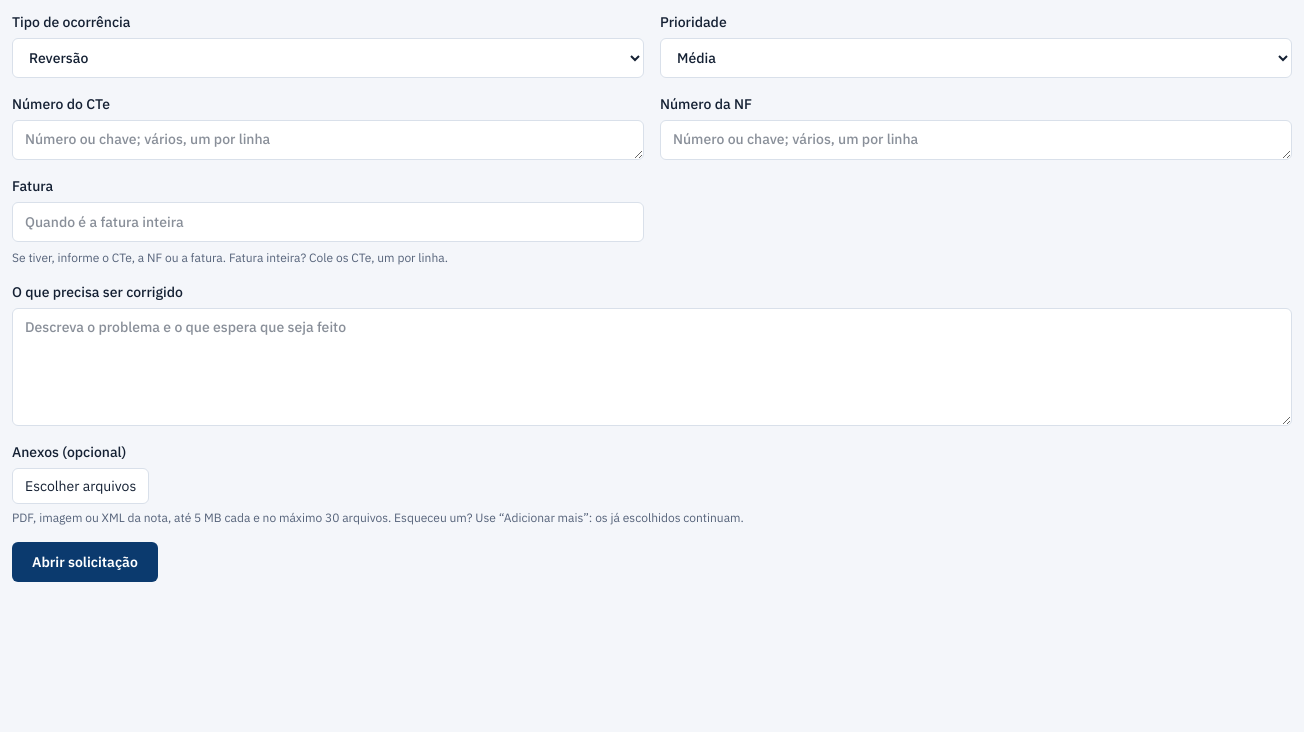
it: FormularioDeAbertura › troca de pagador pede o pagador correto
The width and height of the screenshot is (1304, 732).
Expected: the field labelled "Pagador correto" is not shown
Select "Troca de pagador" in the dropdown labelled "Tipo de ocorrência". click: {"x": 328, "y": 58}
box: [12,38,644,78]
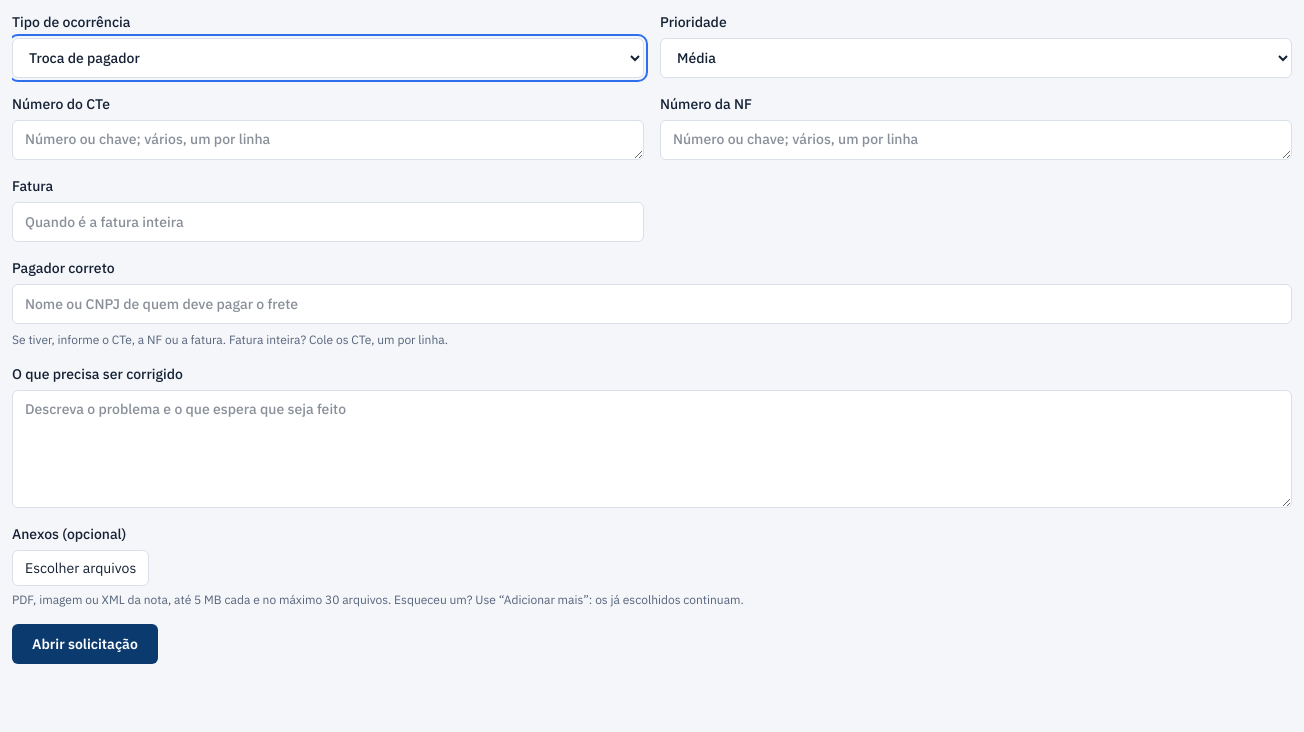
Expected: the field labelled "Pagador correto" is shown, [12,284,1292,324]
